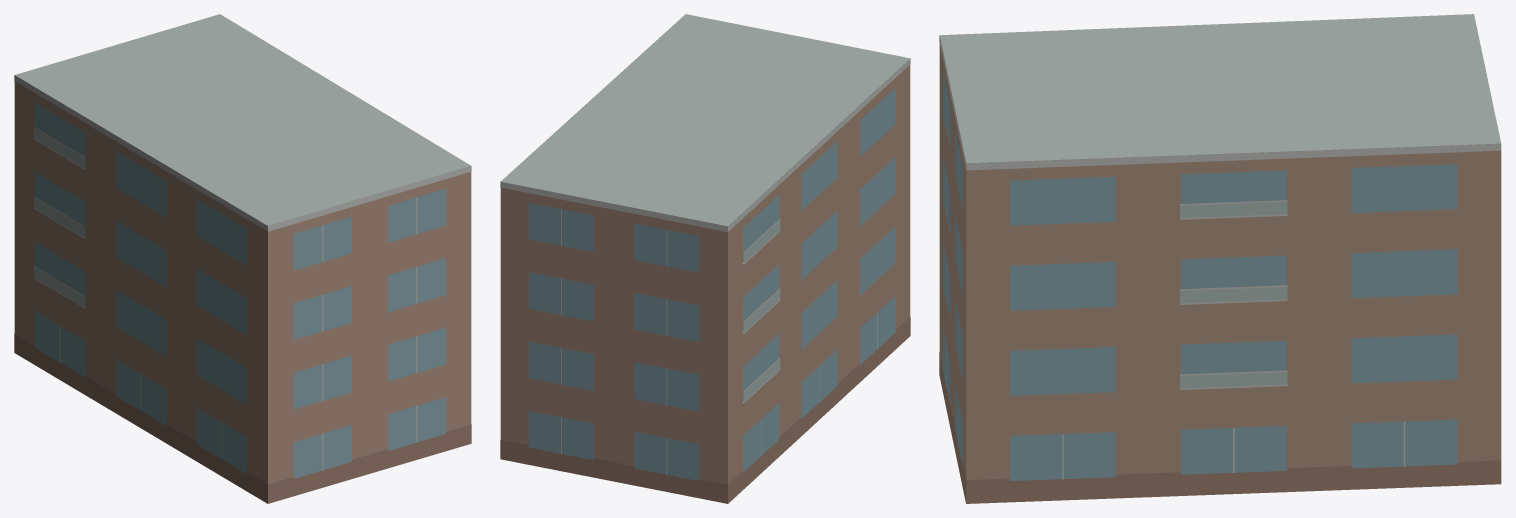
The model's file is survey-upis-32657906.glb.
The picture shows the model from 3 angles, left to right: view 1: azimuth 30°, elevation 25°; view 2: azimuth 150°, elevation 25°; view 3: azimuth 270°, elevation 25°; orthographic projection. The views are drawn at different scales.
Visible parts, largest first — view 1: survey-upis-32657906.tmp; view 2: survey-upis-32657906.tmp; view 3: survey-upis-32657906.tmp.
Boxes of the visible parts, x1,y1,x2,y2 form: survey-upis-32657906.tmp: (14,14,471,503); survey-upis-32657906.tmp: (500,14,910,503); survey-upis-32657906.tmp: (939,14,1501,503).
Size of the model in its own units: 10.92 by 11.6 by 17.35.
